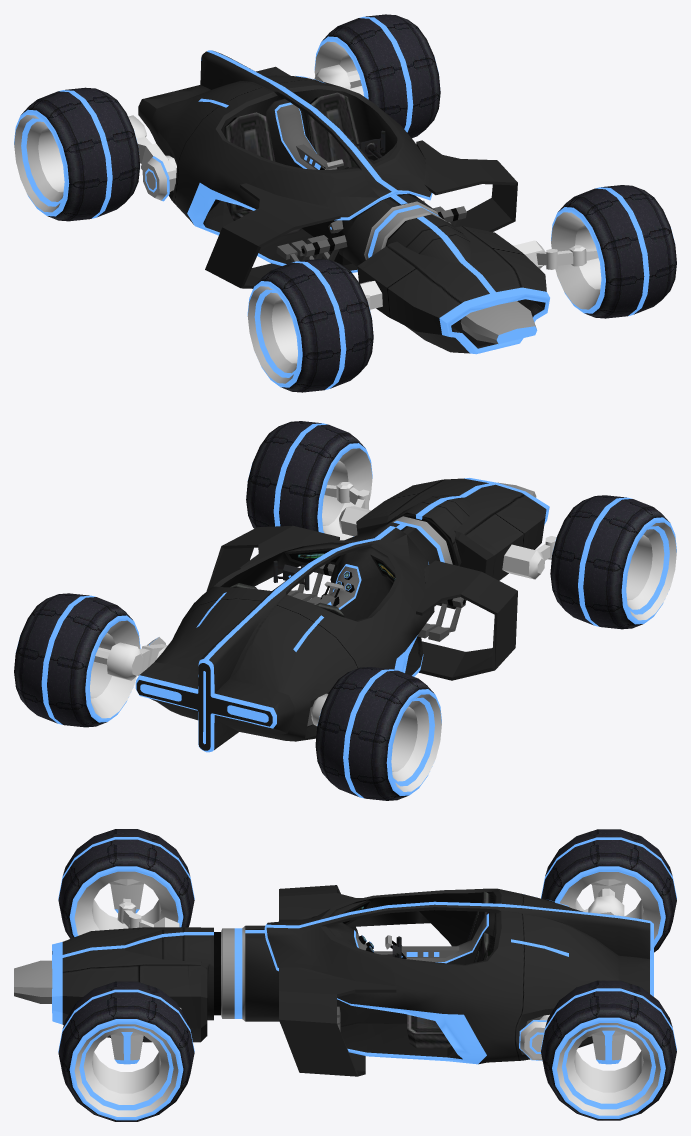
The model's file is light_runner_v1__tron_evolution_battle_grids.glb.
3 views of the same model, one above another, from view 1: azimuth 30°, elevation 25°; view 2: azimuth 150°, elevation 25°; view 3: azimuth 270°, elevation 25° (orthographic). The views are drawn at different scales.
Visible parts, largest first — view 1: Main Body, FRWheel, BRWheel, FLWheel, BLWheel, BRSusp, FLSusp, BLSusp; view 2: Main Body, FRWheel, BRWheel, BLWheel, FLWheel, BLSusp, FRSusp, FLSusp; view 3: Main Body, BLWheel, FLWheel, FRWheel, BRWheel, BLSusp, FRSusp, BRSusp, FLSusp.
Part boxes in pixels (left/top/right/bottom): Main Body: left=138, top=50, right=549, bottom=354; FRWheel: left=247, top=259, right=373, bottom=392; BRWheel: left=14, top=87, right=139, bottom=221; FLWheel: left=551, top=185, right=676, bottom=318; BLWheel: left=314, top=14, right=440, bottom=138; BRSusp: left=128, top=115, right=176, bottom=201; FLSusp: left=513, top=240, right=598, bottom=269; BLSusp: left=314, top=64, right=361, bottom=89; Main Body: left=135, top=478, right=549, bottom=752; FRWheel: left=550, top=495, right=676, bottom=629; BRWheel: left=315, top=667, right=441, bottom=800; BLWheel: left=14, top=593, right=140, bottom=727; FLWheel: left=246, top=421, right=372, bottom=540; BLSusp: left=94, top=637, right=167, bottom=680; FRSusp: left=502, top=536, right=556, bottom=579; FLSusp: left=324, top=482, right=371, bottom=536; Main Body: left=14, top=885, right=653, bottom=1076; BLWheel: left=541, top=980, right=676, bottom=1120; FLWheel: left=58, top=981, right=194, bottom=1121; FRWheel: left=58, top=829, right=194, bottom=938; BRWheel: left=541, top=829, right=676, bottom=952; BLSusp: left=519, top=1014, right=625, bottom=1064; FRSusp: left=109, top=879, right=179, bottom=928; BRSusp: left=582, top=879, right=626, bottom=916; FLSusp: left=110, top=1008, right=181, bottom=1064.
Size of the model in its own units: 0.3772 by 0.1233 by 0.5545.
10 materials, 4 textured.
